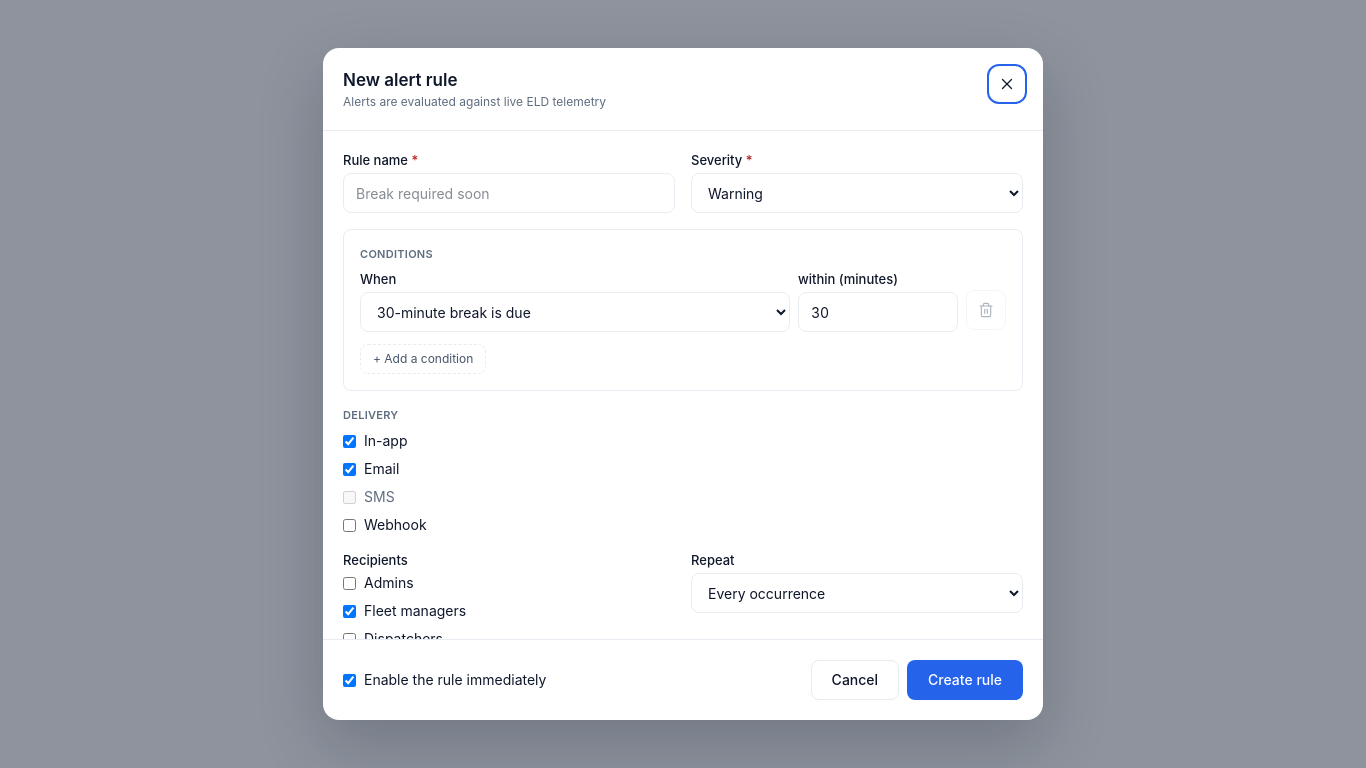
Test case: NewAlertRuleModal › puts a 422 on the name and spells out recipients in the banner, no generic toast
Type "Speeding" into the field with placeholder "Break required soon" at (509,193), box [343,173,675,213]
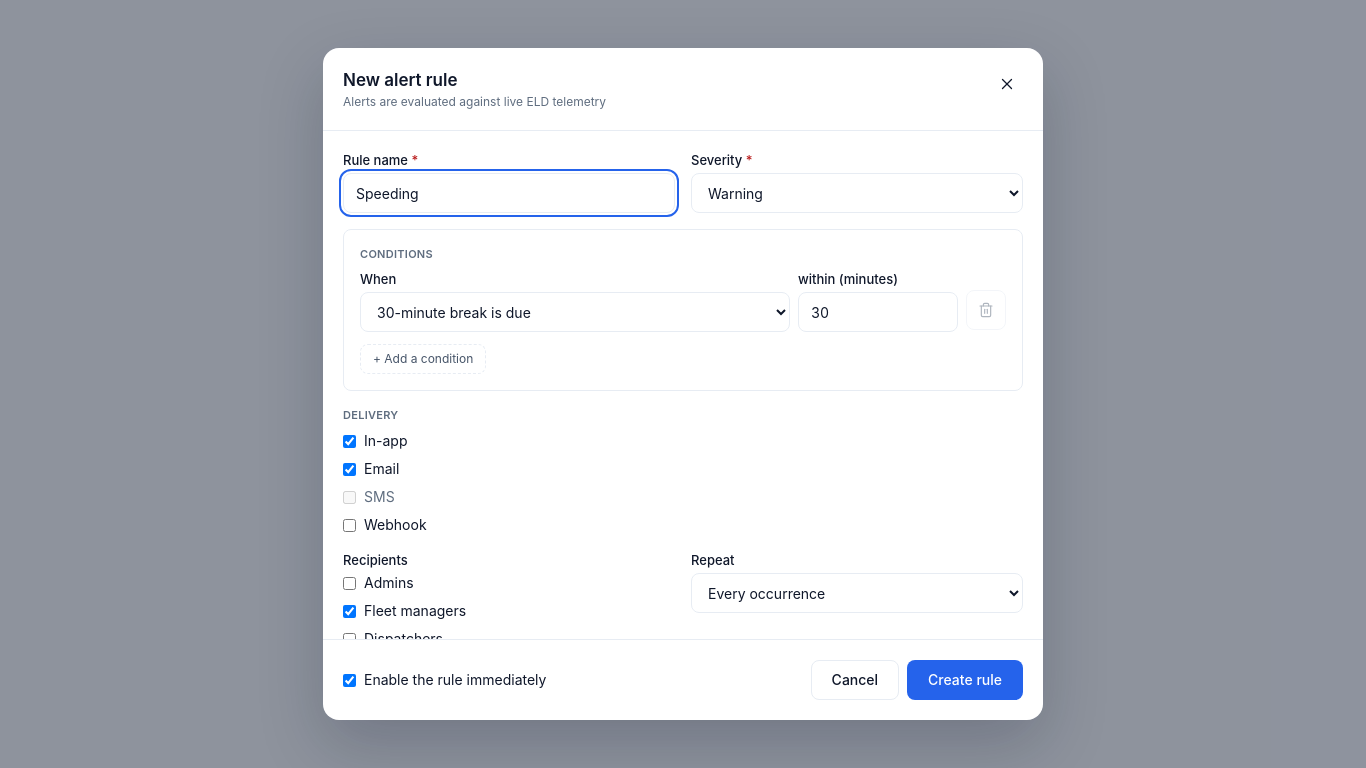
Click the button "Create rule" at (965,680), box [907,660,1023,700]
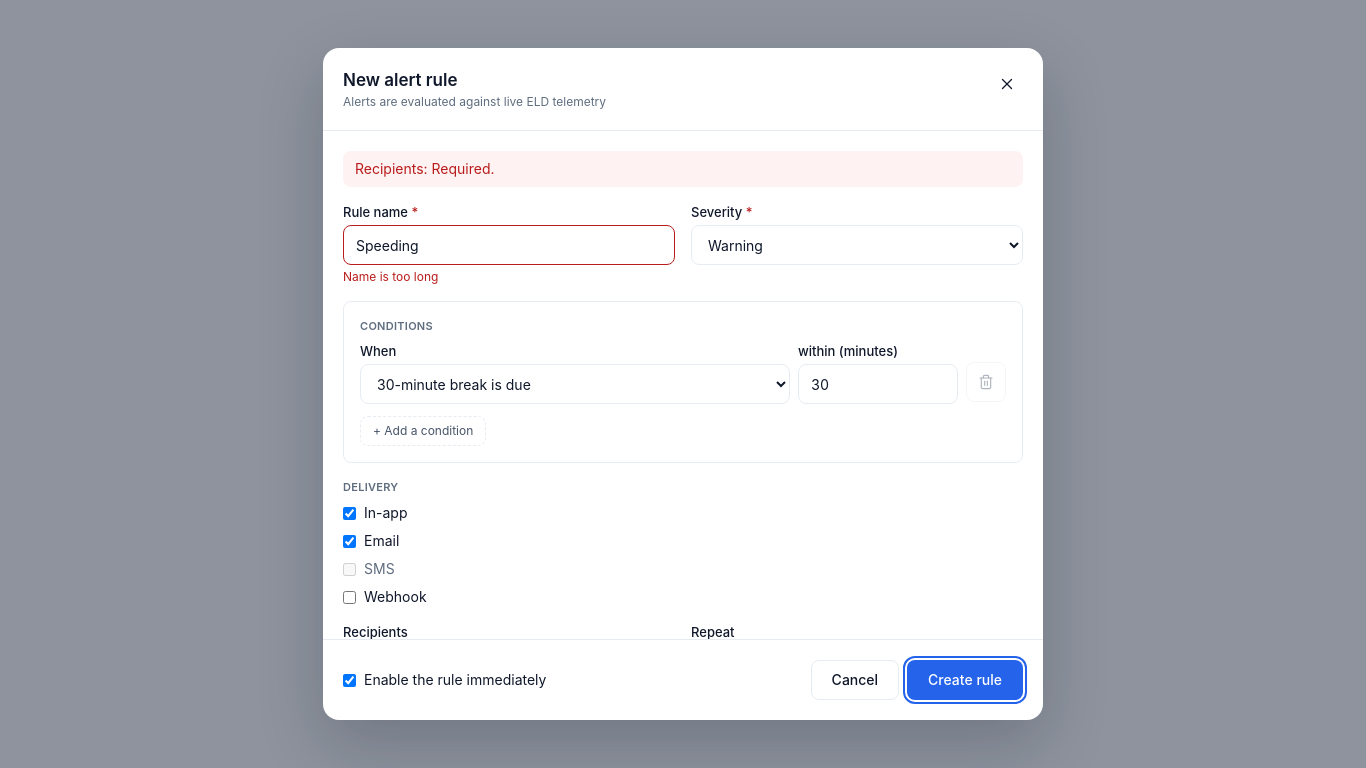
Expected: the text "Name is too long" is shown, [343,269,438,284]
Expected: the text "Recipients: Required." is shown, [343,151,1023,187]
